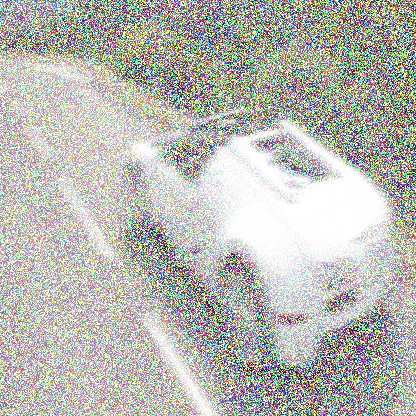Vehicle: (128, 112, 400, 371)
